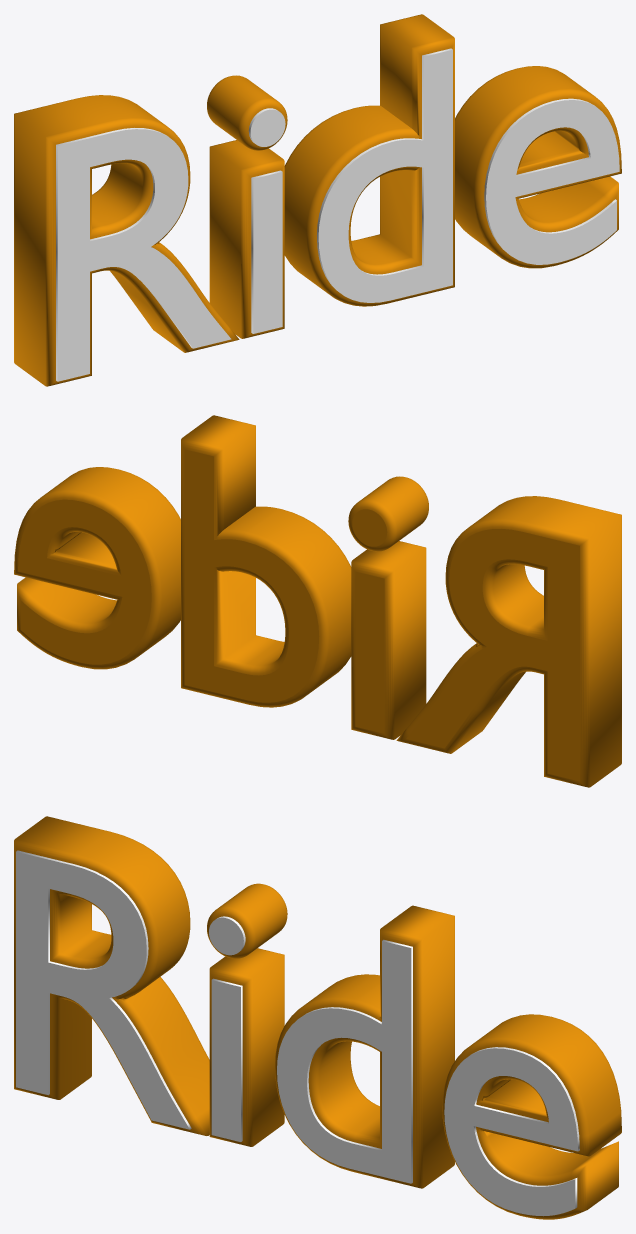
The model's file is ride.fbx.
3 renders of one model, top to bottom at view 1: azimuth 30°, elevation 25°; view 2: azimuth 150°, elevation 25°; view 3: azimuth 330°, elevation 25°, orthographic.
Parts seen in each view (by area): view 1: Text, Text.001; view 2: Text; view 3: Text, Text.001.
Part boxes in pixels (left/top/right/bottom): Text: left=14, top=14, right=621, bottom=386; Text.001: left=56, top=48, right=619, bottom=381; Text: left=14, top=415, right=621, bottom=787; Text: left=14, top=816, right=621, bottom=1219; Text.001: left=16, top=850, right=579, bottom=1216.
Size of the model in its own units: 174 by 73.1 by 20.92.
